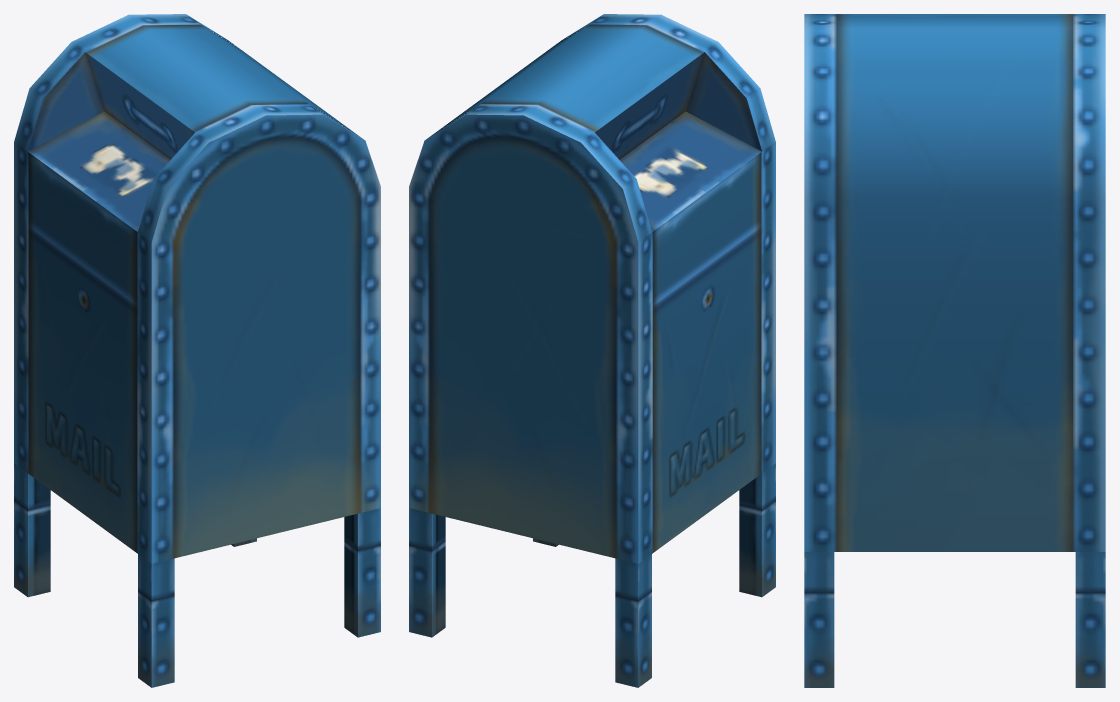
Rendered from mailbox05.fbx.
3 views of the same model, side by side, from view 1: azimuth 30°, elevation 25°; view 2: azimuth 150°, elevation 25°; view 3: azimuth 270°, elevation 25° (orthographic). The views are drawn at different scales.
Visible parts, largest first — view 1: mailbox05; view 2: mailbox05; view 3: mailbox05.
Boxes of the visible parts, x1,y1,x2,y2 form: mailbox05: [14, 14, 380, 687]; mailbox05: [409, 14, 775, 687]; mailbox05: [804, 14, 1105, 687].
Size of the model in its own units: 58.02 by 132 by 60.33.
